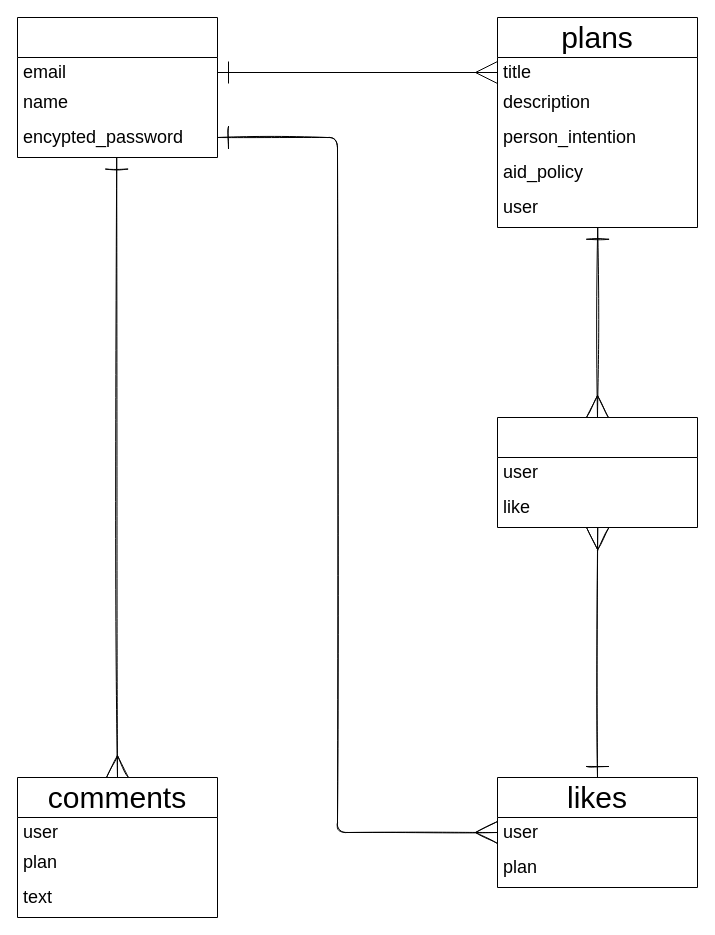
Some shapes in this 715 by 935 pixel diagram are drawn without their labels. The box of each missing label's shape, as (x1, y1, x2, y2) in pixels:
plan_likes: (496, 416, 698, 528)
users: (16, 16, 218, 158)
